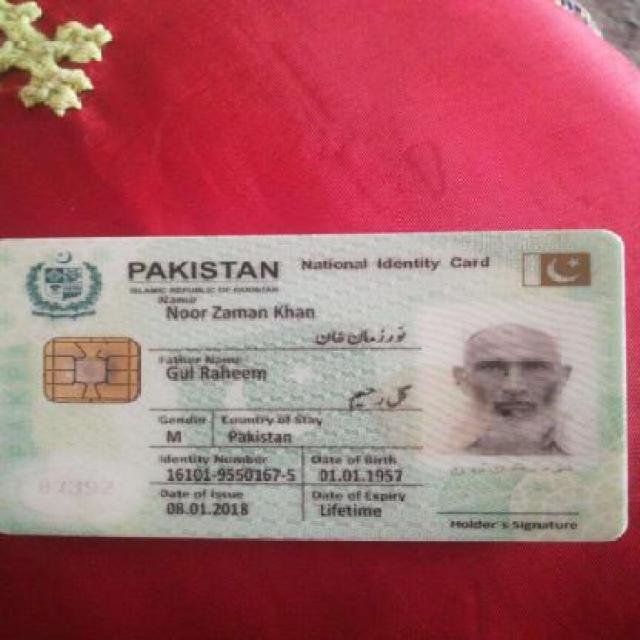Front: (5, 226, 632, 545)
